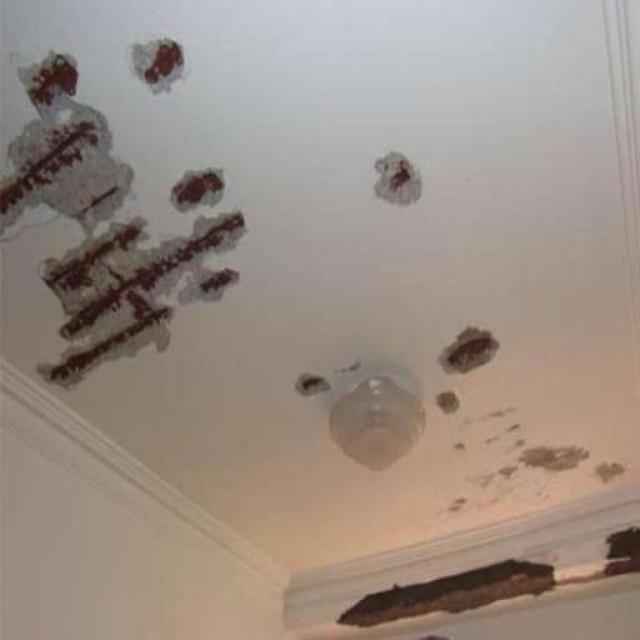D0w0: (0, 50, 246, 386), (370, 150, 423, 209), (134, 38, 189, 93), (442, 326, 501, 372), (170, 170, 229, 207), (298, 374, 333, 397)
